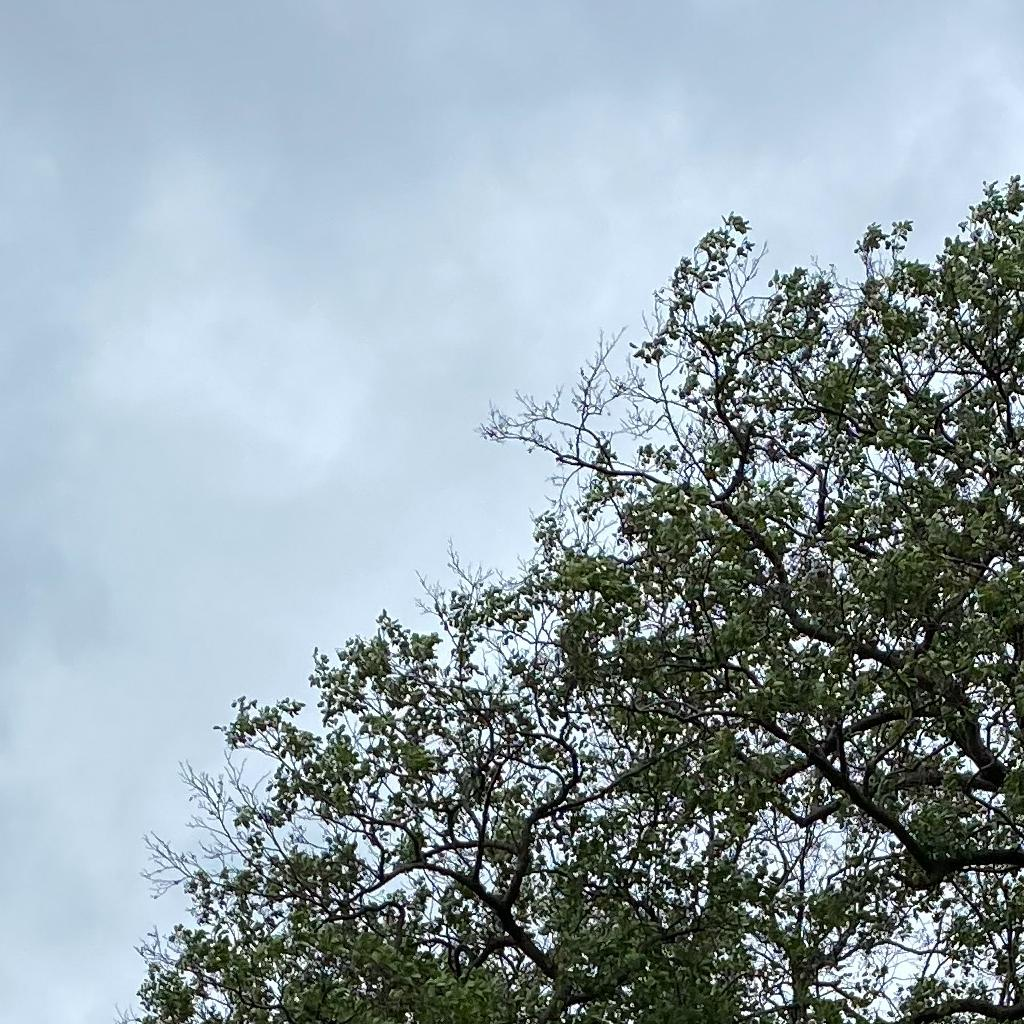tree: (112, 173, 1023, 1024)
